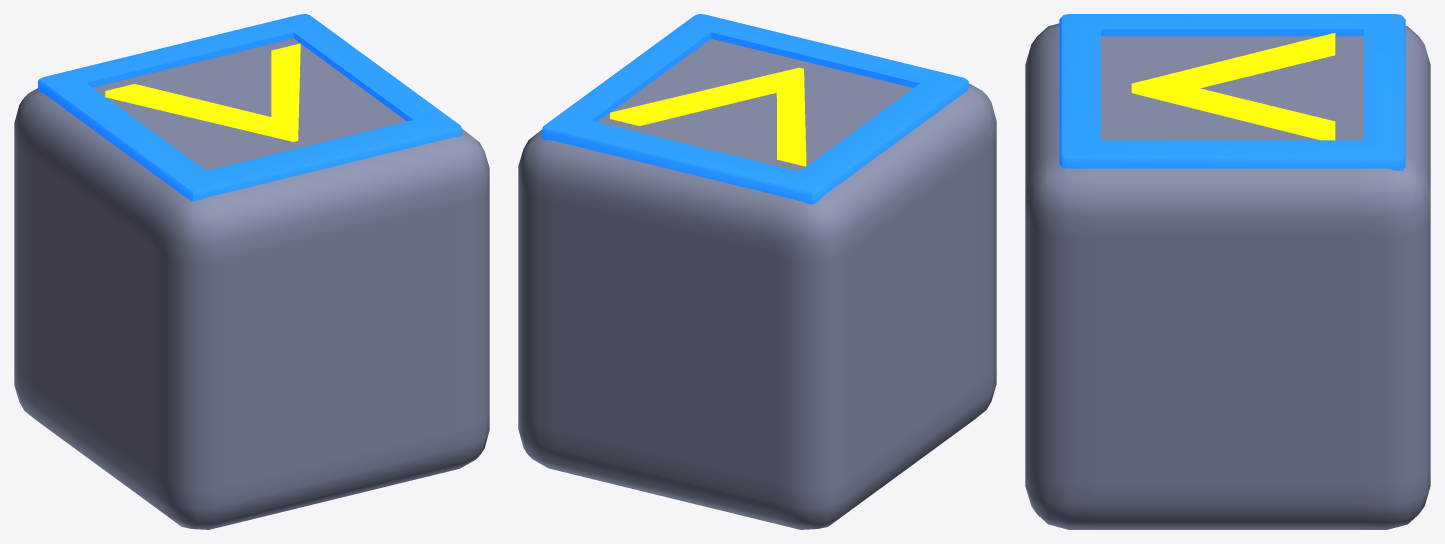
Rendered from DoublerTileModel.fbx.
The picture shows the model from 3 angles, left to right: view 1: azimuth 30°, elevation 25°; view 2: azimuth 150°, elevation 25°; view 3: azimuth 270°, elevation 25°; orthographic projection. The views are drawn at different scales.
Visible parts, largest first — view 1: DoublerTile, DoublerTileGlow, DoublerTileAdditionalGlow; view 2: DoublerTile, DoublerTileGlow, DoublerTileAdditionalGlow; view 3: DoublerTile, DoublerTileGlow, DoublerTileAdditionalGlow.
Part boxes in pixels (x1,y1,x2,y2): DoublerTile: (14, 38, 489, 529); DoublerTileGlow: (38, 14, 461, 201); DoublerTileAdditionalGlow: (105, 43, 300, 141); DoublerTile: (518, 39, 996, 529); DoublerTileGlow: (542, 14, 968, 204); DoublerTileAdditionalGlow: (610, 67, 806, 166); DoublerTile: (1025, 23, 1430, 529); DoublerTileGlow: (1059, 14, 1405, 170); DoublerTileAdditionalGlow: (1131, 33, 1335, 140).
Bounding box in the file's own units: 200 × 204 × 200.
